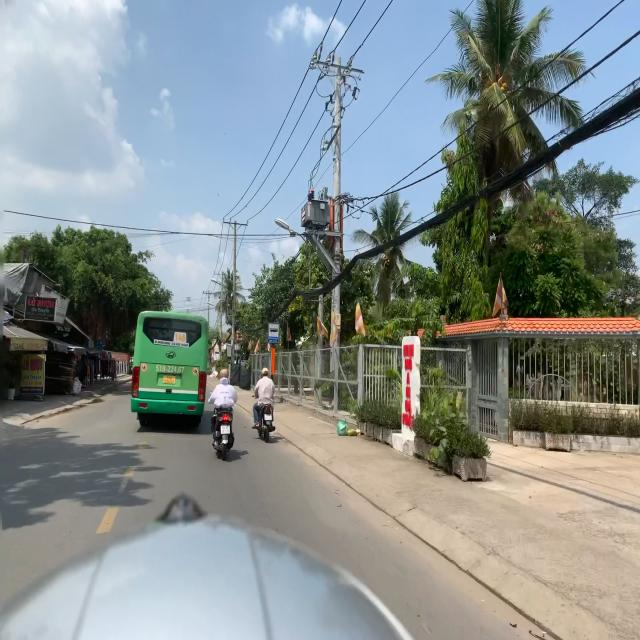Ben xe buyt: (268, 323, 280, 344)
